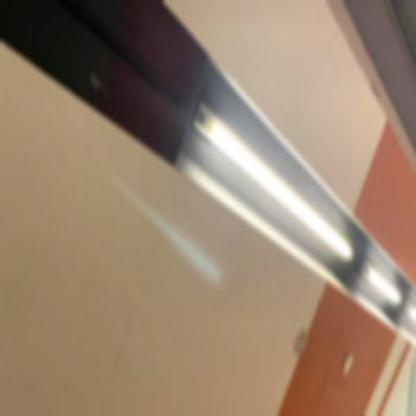light_on: (184, 89, 354, 267), (361, 258, 401, 308), (404, 289, 416, 331)
